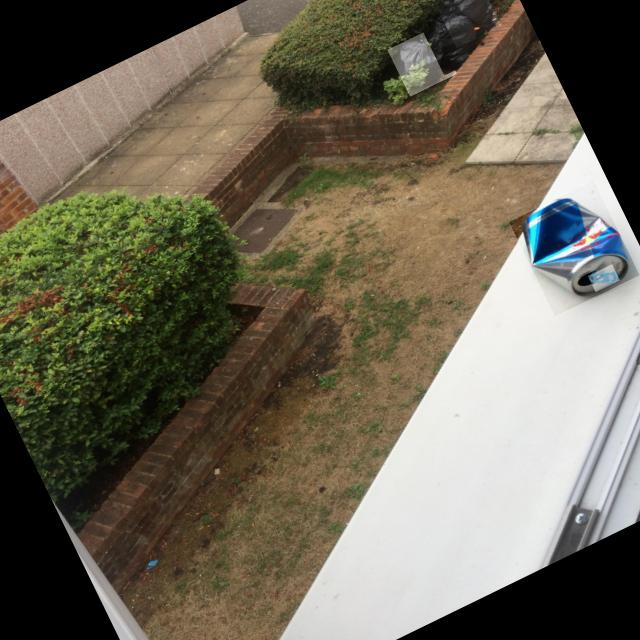Drink can: (522, 198, 629, 297)
Garbage bag: (426, 13, 477, 70), (396, 35, 444, 87), (441, 0, 496, 38)
Pop tab: (590, 270, 618, 282)
